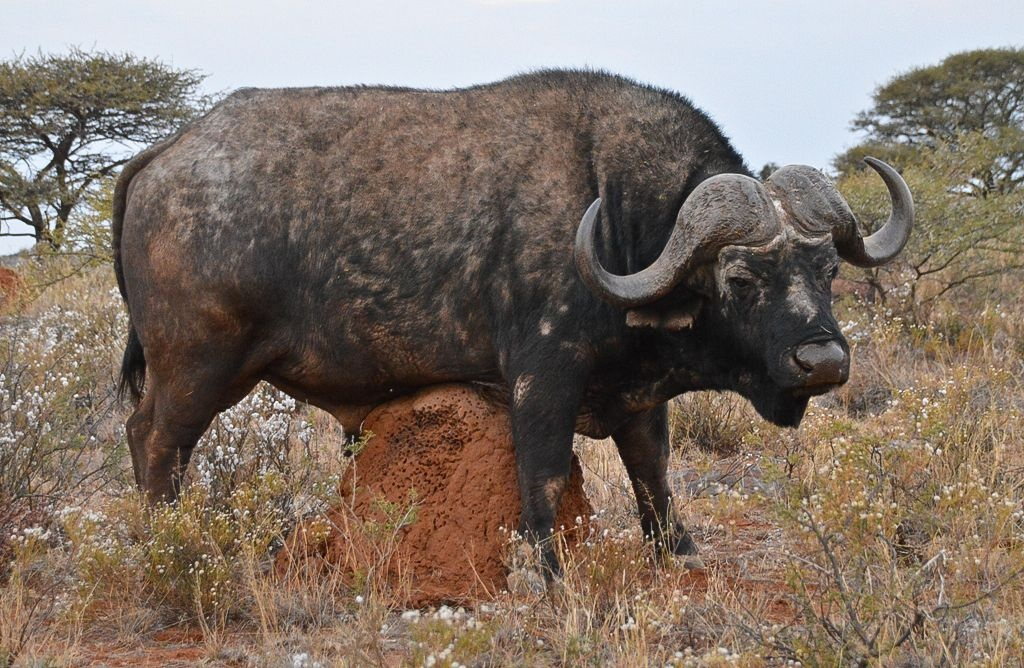buffalo: (108, 69, 915, 598)
